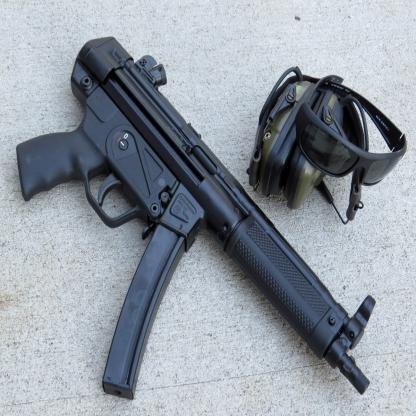Gun: (15, 36, 376, 401)
